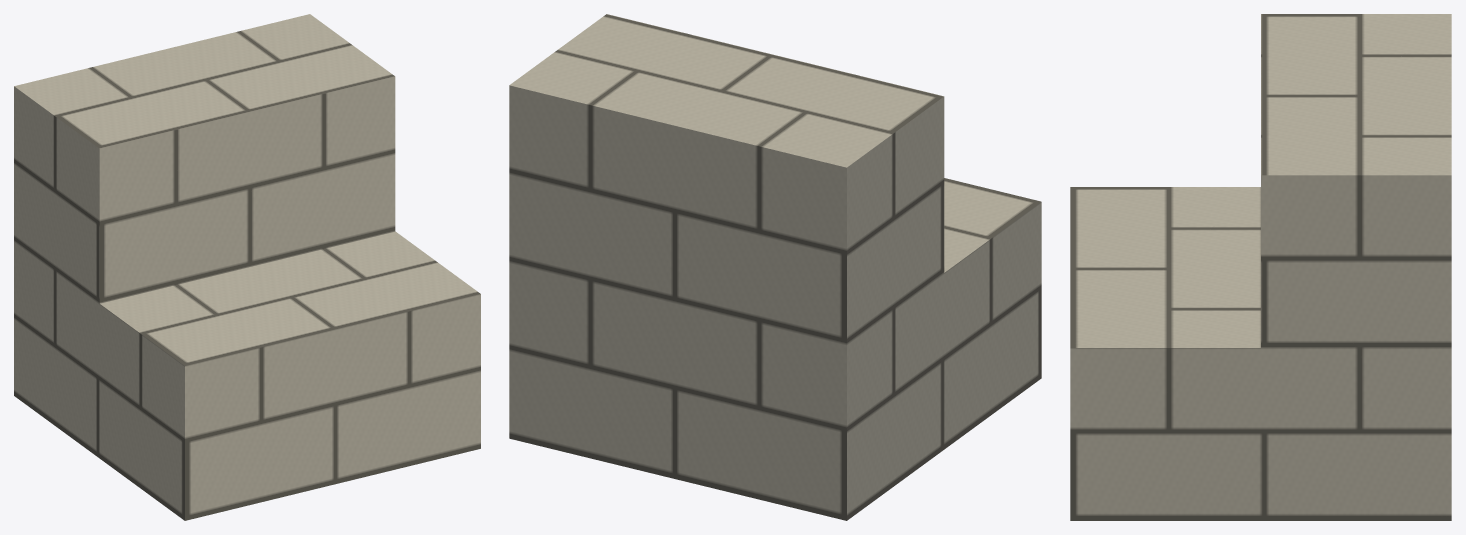
Rendered from stairs.glb.
3 views of the same model, side by side, from view 1: azimuth 30°, elevation 25°; view 2: azimuth 150°, elevation 25°; view 3: azimuth 270°, elevation 25° (orthographic). The views are drawn at different scales.
Visible parts, largest first — view 1: stairs; view 2: stairs; view 3: stairs.
Part boxes in pixels (left/top/right/bottom): stairs: left=14, top=14, right=480, bottom=520; stairs: left=509, top=14, right=1041, bottom=520; stairs: left=1070, top=14, right=1451, bottom=520.
Size of the model in its own units: 1 by 1 by 1.
1 material, 1 textured.
